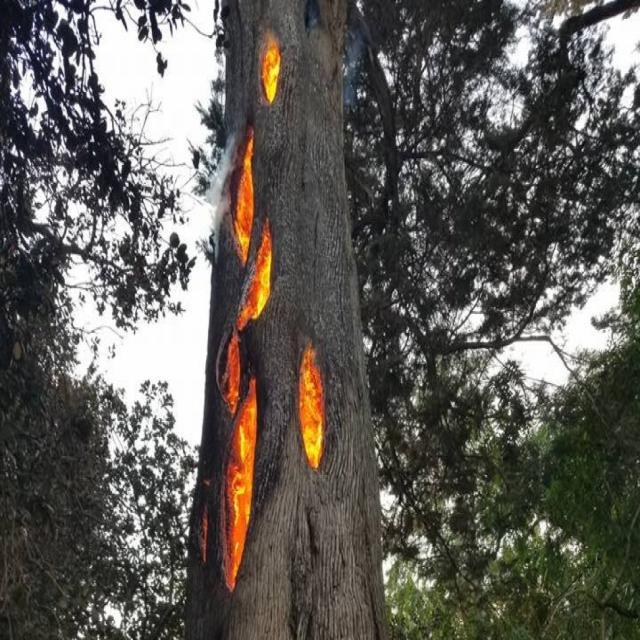Fire: (224, 377, 262, 582), (238, 228, 286, 336), (296, 338, 326, 479), (238, 138, 255, 263), (218, 342, 244, 409), (196, 491, 218, 567), (264, 40, 279, 104)
Smoke: (208, 126, 232, 266), (341, 34, 361, 118)
